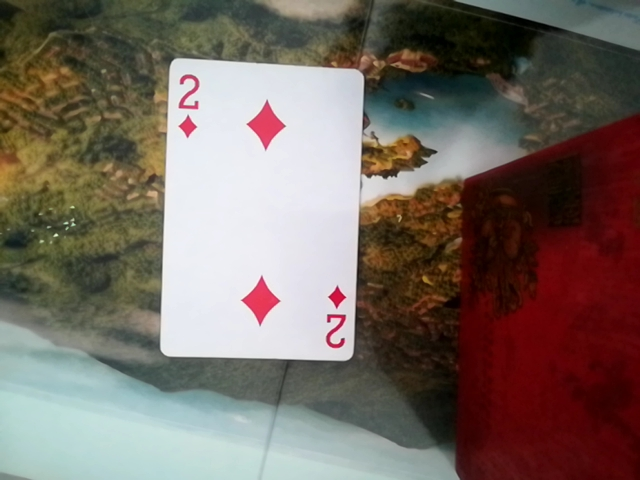fk 2: (157, 52, 369, 365)
